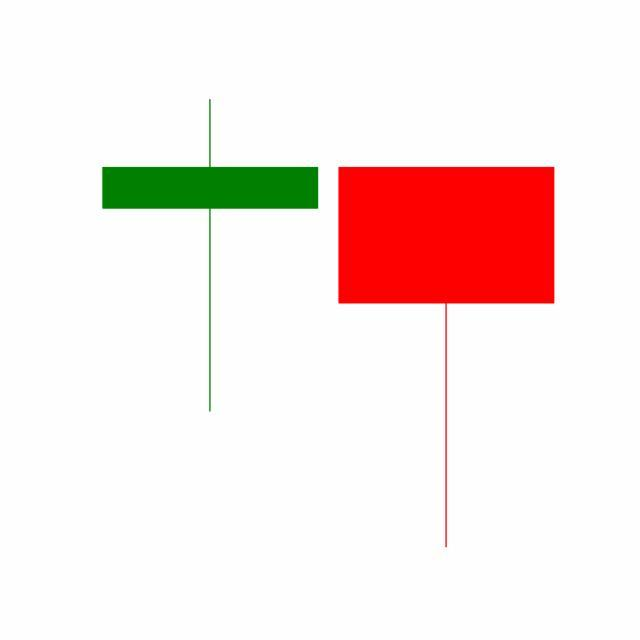Hammer: (328, 164, 566, 553)
